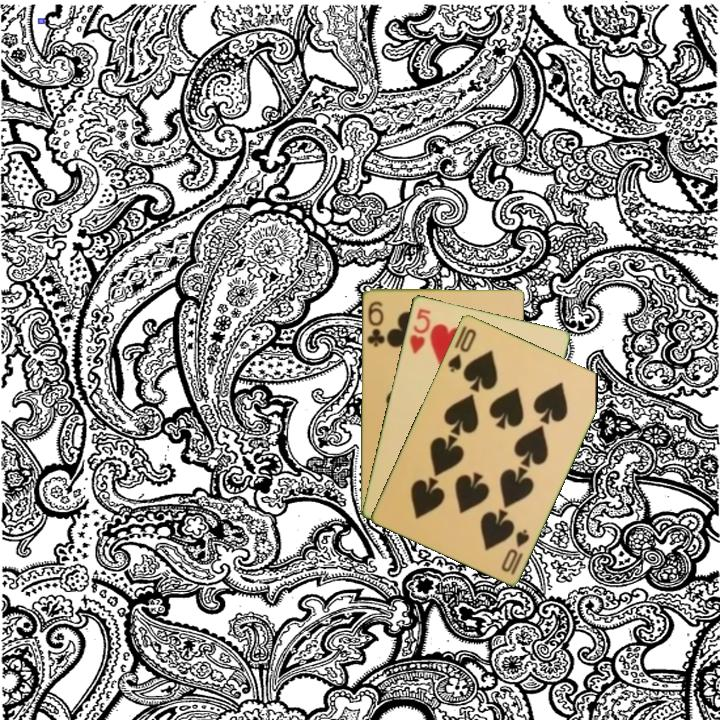10s: (498, 525, 532, 578), (444, 324, 479, 375)
5h: (406, 304, 433, 356)
6c: (364, 298, 387, 349)
